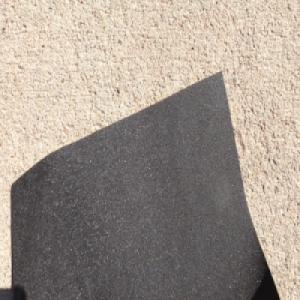PaintChip: (10, 65, 277, 300)
